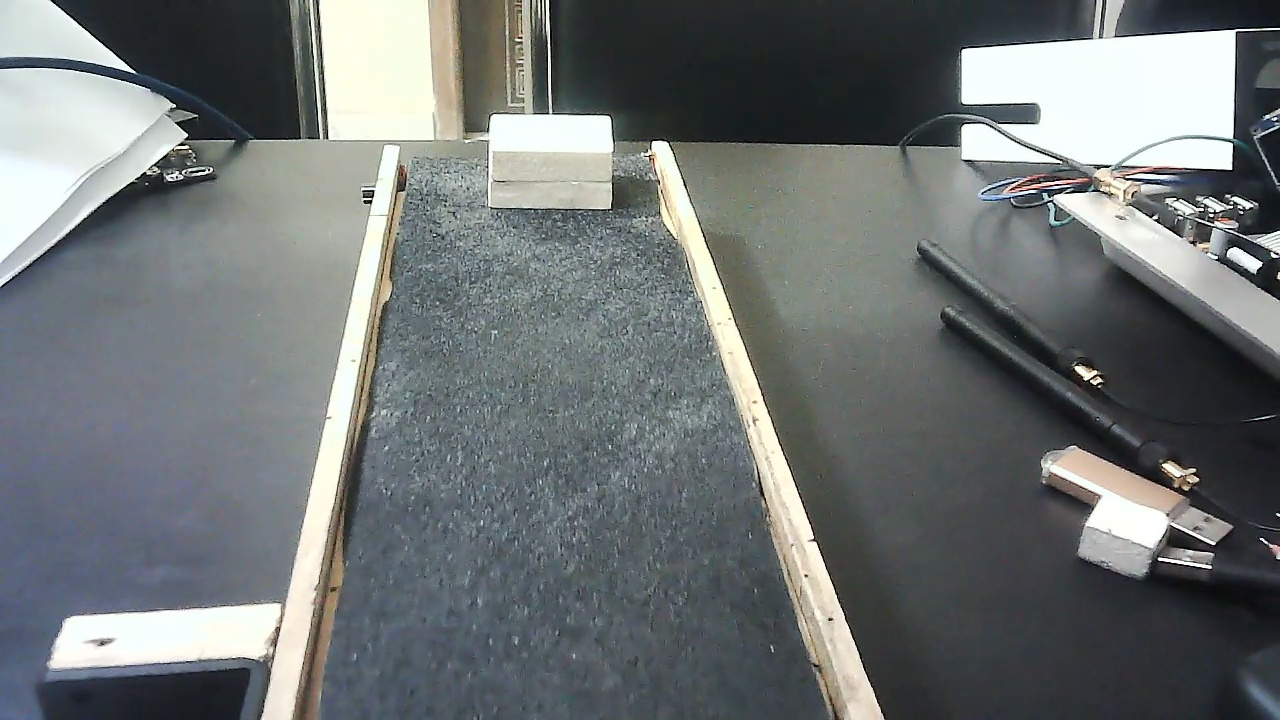BIG: (487, 98, 614, 225)
